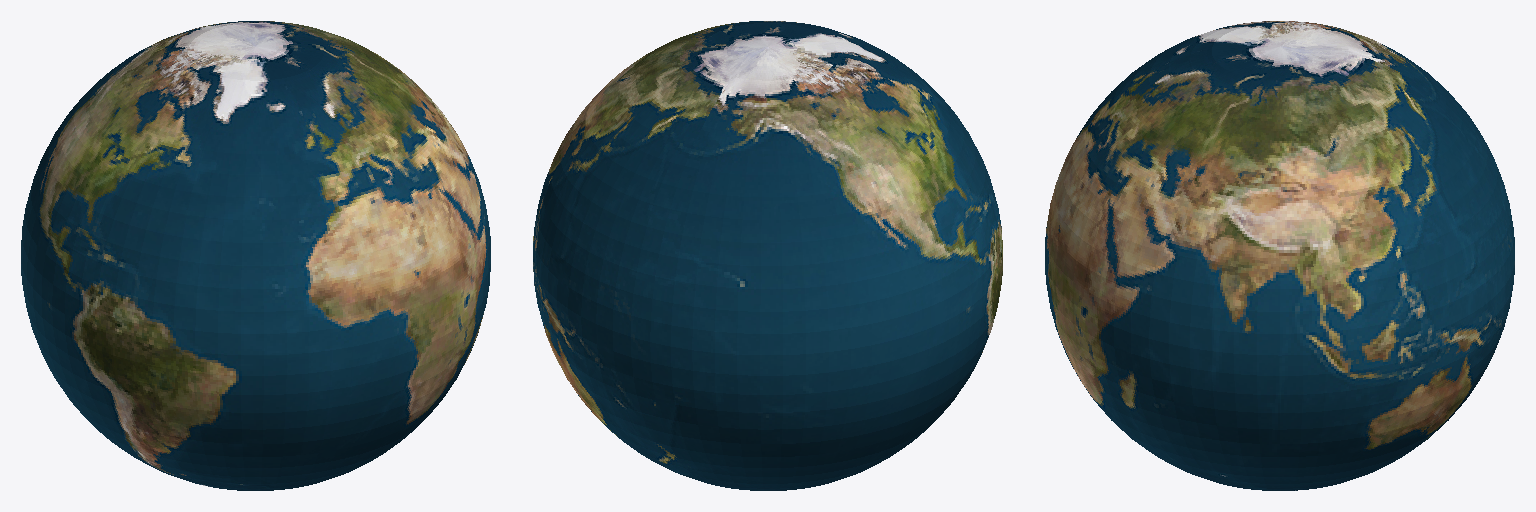
The picture shows the model from 3 angles: view 1: azimuth 30°, elevation 25°; view 2: azimuth 150°, elevation 25°; view 3: azimuth 270°, elevation 25°; orthographic projection.
Visible parts, largest first — view 1: Sphere_Sphere.001; view 2: Sphere_Sphere.001; view 3: Sphere_Sphere.001.
Part boxes in pixels (x1,y1,x2,y2): Sphere_Sphere.001: (21, 21, 490, 490); Sphere_Sphere.001: (533, 21, 1002, 490); Sphere_Sphere.001: (1045, 21, 1514, 490).
Size of the model in its own units: 4 by 3.92 by 4.
Materials: 1 (1 with a texture image).